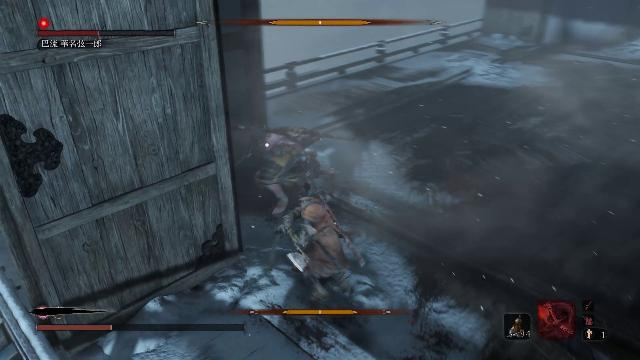sk: (278, 177, 353, 303)
